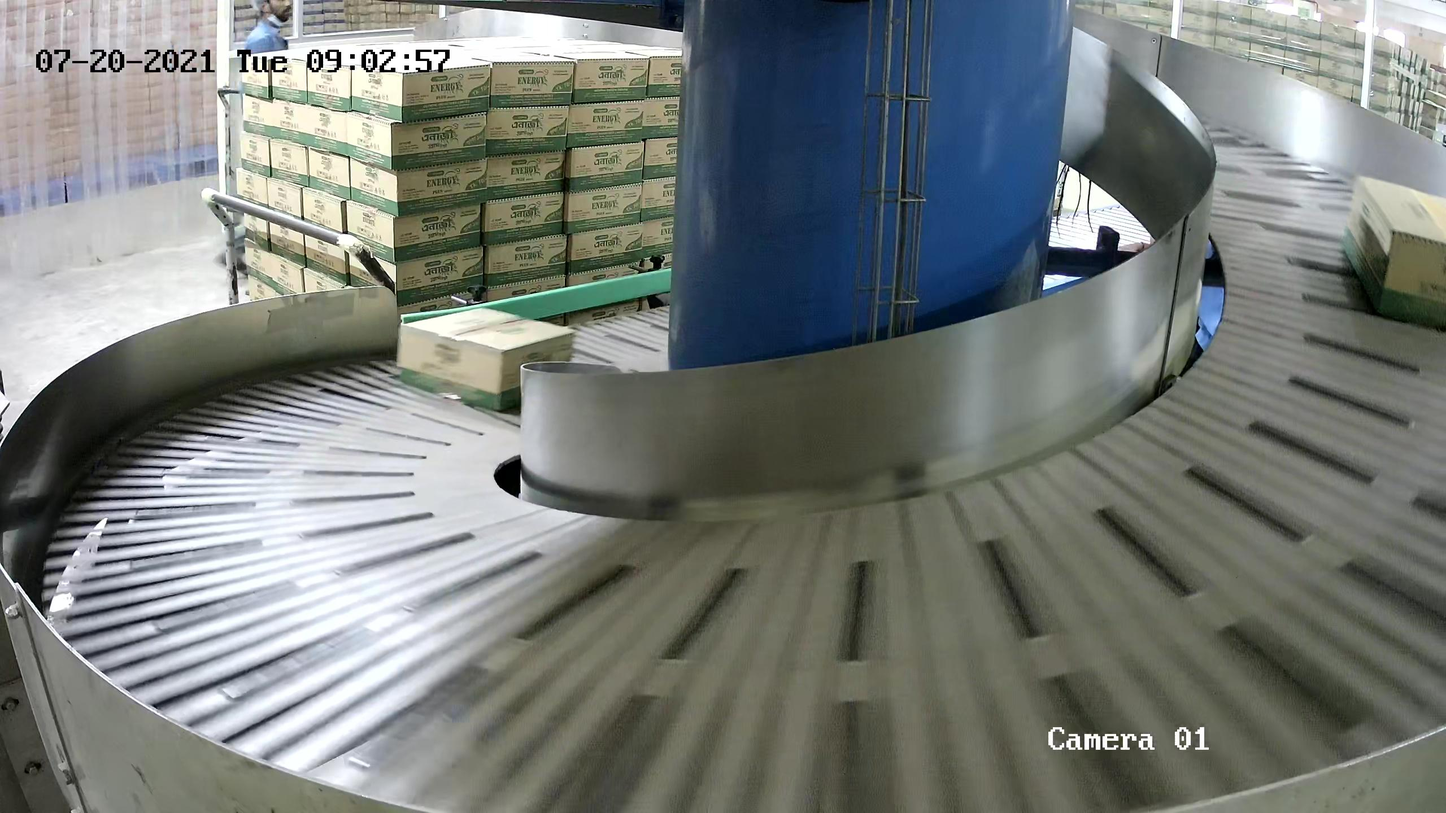Box: (395, 306, 576, 412), (1339, 173, 1446, 327)
